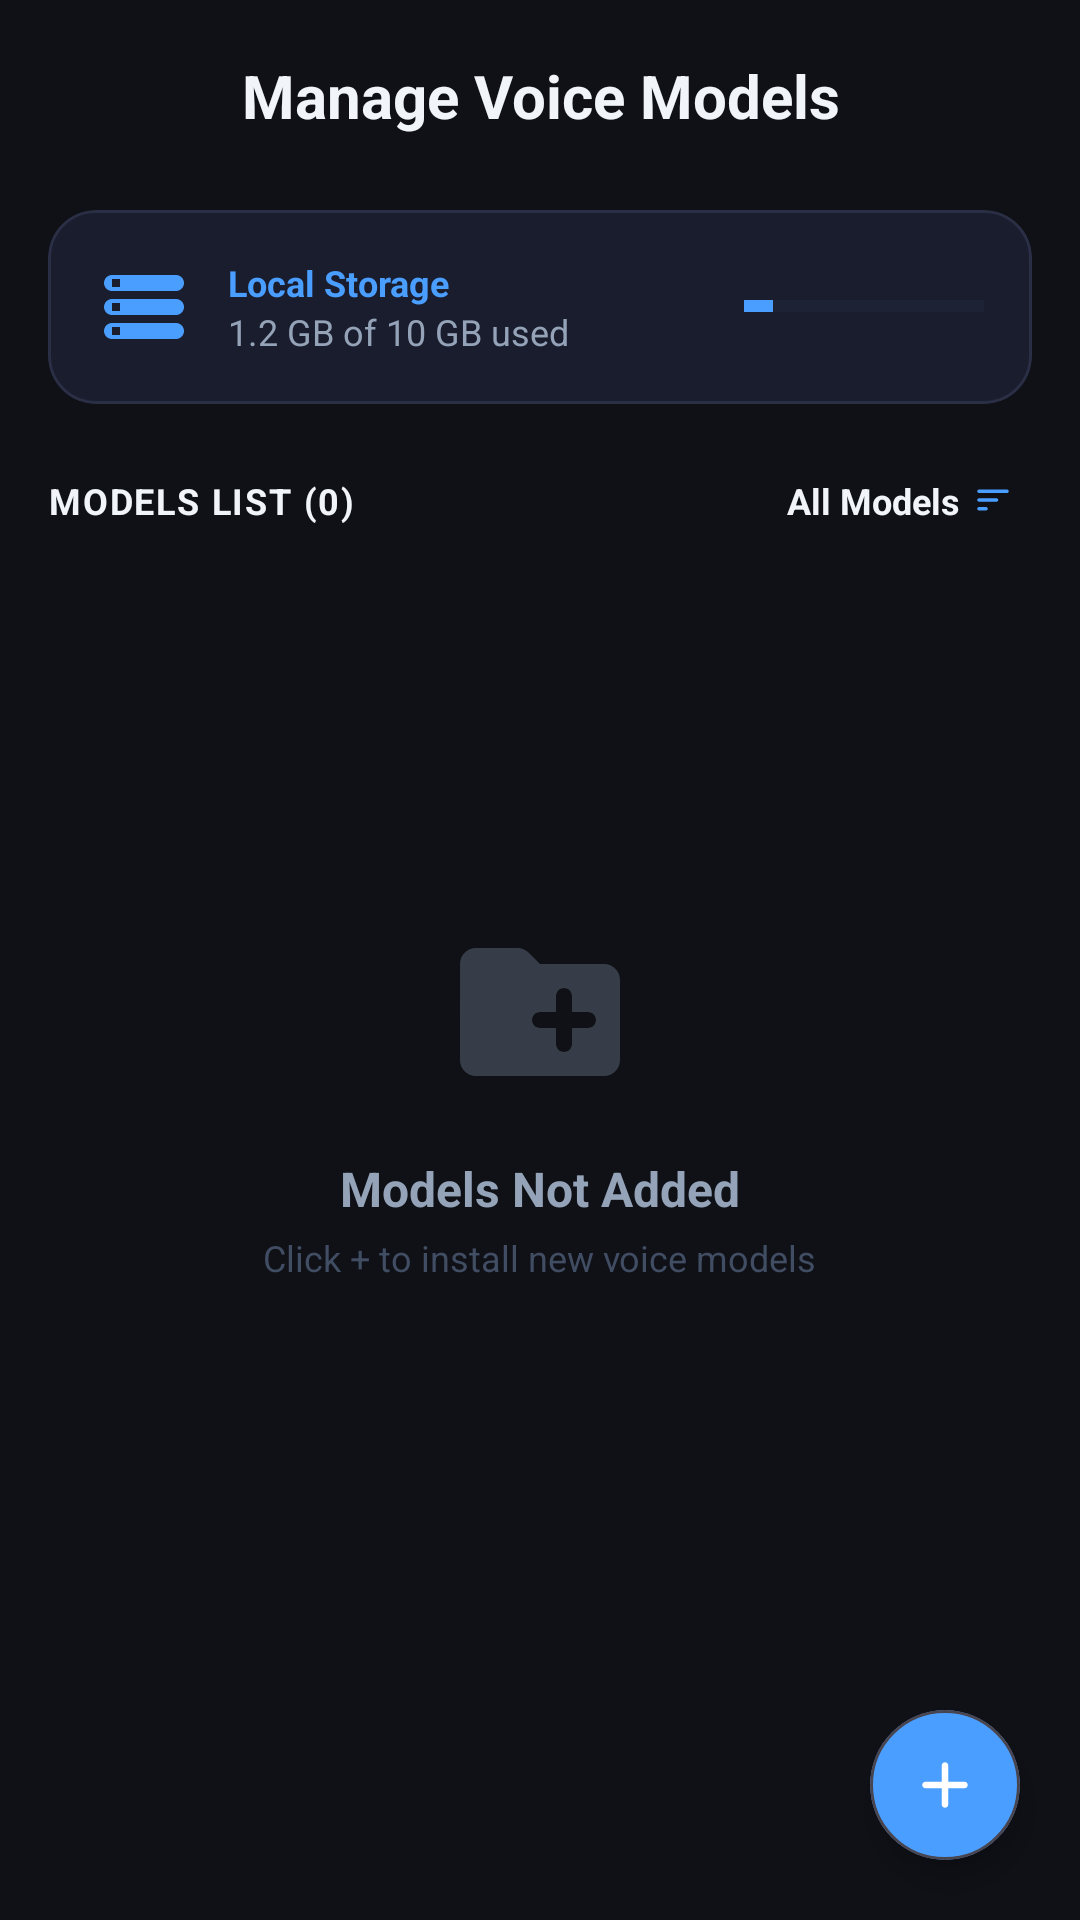

Named icons in this screenshot (1080 × 1920) and their bounding boxes, [x1,y1,x2,y2]:
add: [870,1710,1020,1860]
add folder: [460,948,620,1076]
sort: [977,489,1009,511]
